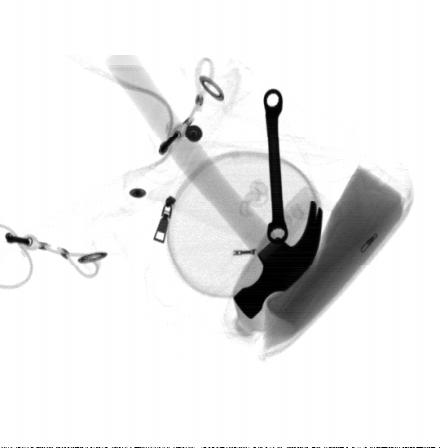Hammer: (105, 54, 323, 321)
Wrench: (263, 88, 289, 244)
